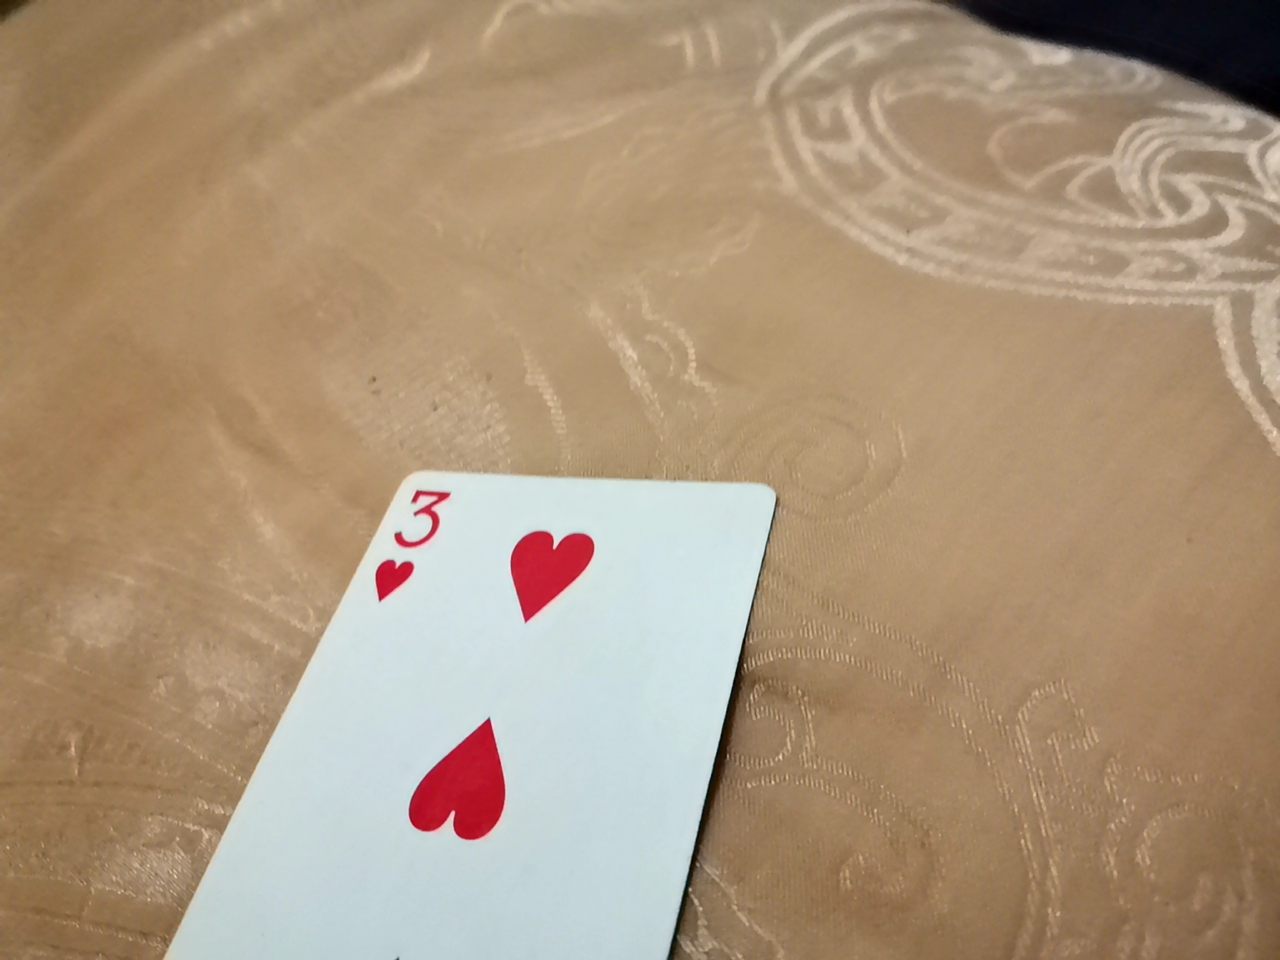hx 3: (128, 453, 785, 957)
